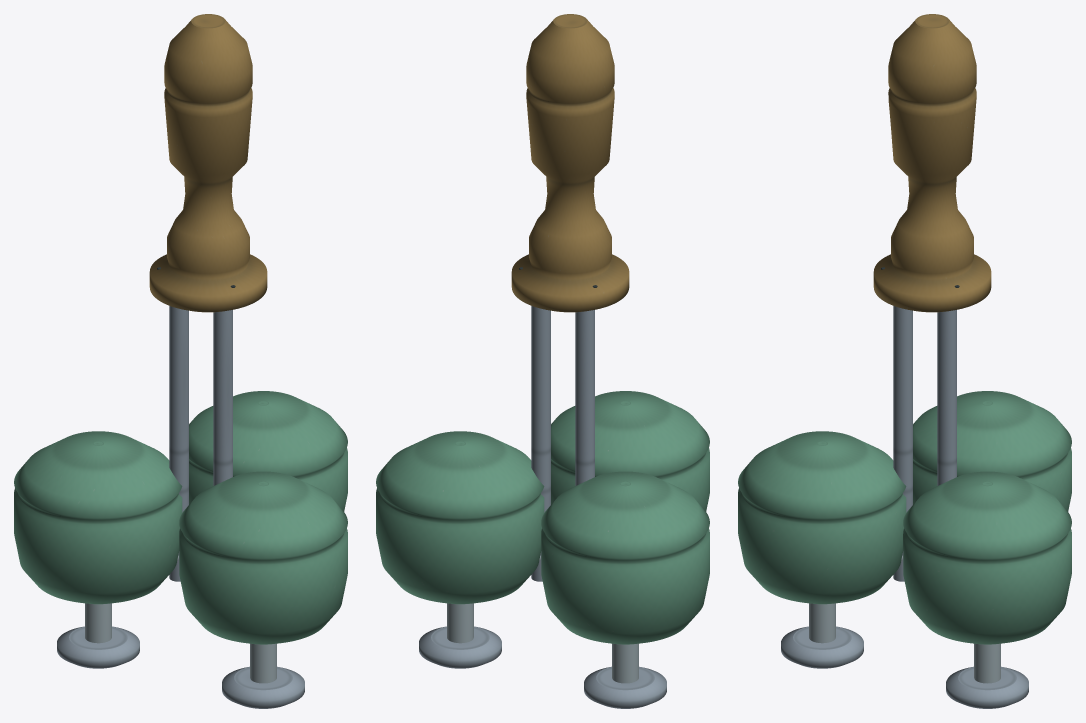
The picture shows the model from 3 angles, left to right: view 1: azimuth 30°, elevation 25°; view 2: azimuth 150°, elevation 25°; view 3: azimuth 270°, elevation 25°; orthographic projection.
Visible parts, largest first — view 1: RI16 green lower housing 0, RI16 green lower housing 2, RI16 bronze generator head, RI16 green lower housing 1, RI16 vertical alloy support 2, RI16 vertical alloy support 0, RI16 ground foot 2, RI16 ground foot 0, RI16 housing foot stem 0, RI16 housing foot stem 2; view 2: RI16 green lower housing 2, RI16 green lower housing 1, RI16 bronze generator head, RI16 green lower housing 0, RI16 vertical alloy support 1, RI16 vertical alloy support 2, RI16 ground foot 1, RI16 ground foot 2, RI16 housing foot stem 2, RI16 housing foot stem 1; view 3: RI16 green lower housing 1, RI16 green lower housing 0, RI16 bronze generator head, RI16 green lower housing 2, RI16 vertical alloy support 0, RI16 vertical alloy support 1, RI16 ground foot 1, RI16 ground foot 0, RI16 housing foot stem 1, RI16 housing foot stem 0.
Part boxes in pixels (<box>): RI16 green lower housing 0: <box>179,471,347,644</box>; RI16 green lower housing 2: <box>14,431,182,604</box>; RI16 bronze generator head: <box>149,14,267,312</box>; RI16 green lower housing 1: <box>189,391,347,511</box>; RI16 vertical alloy support 2: <box>169,306,188,581</box>; RI16 vertical alloy support 0: <box>213,310,232,485</box>; RI16 ground foot 2: <box>57,626,139,668</box>; RI16 ground foot 0: <box>222,666,304,708</box>; RI16 housing foot stem 0: <box>250,643,276,683</box>; RI16 housing foot stem 2: <box>85,603,111,643</box>; RI16 green lower housing 2: <box>541,471,709,644</box>; RI16 green lower housing 1: <box>376,431,544,604</box>; RI16 bronze generator head: <box>511,14,629,312</box>; RI16 green lower housing 0: <box>551,391,709,511</box>; RI16 vertical alloy support 1: <box>531,306,550,581</box>; RI16 vertical alloy support 2: <box>575,310,594,485</box>; RI16 ground foot 1: <box>419,626,501,668</box>; RI16 ground foot 2: <box>584,666,666,708</box>; RI16 housing foot stem 2: <box>612,643,638,683</box>; RI16 housing foot stem 1: <box>447,603,473,643</box>; RI16 green lower housing 1: <box>903,471,1071,644</box>; RI16 green lower housing 0: <box>738,431,906,604</box>; RI16 bronze generator head: <box>873,14,991,312</box>; RI16 green lower housing 2: <box>913,391,1071,511</box>; RI16 vertical alloy support 0: <box>893,306,912,581</box>; RI16 vertical alloy support 1: <box>937,310,956,485</box>; RI16 ground foot 1: <box>946,666,1028,708</box>; RI16 ground foot 0: <box>781,626,863,668</box>; RI16 housing foot stem 1: <box>974,643,1000,683</box>; RI16 housing foot stem 0: <box>809,603,835,643</box>.
Bounding box in the file's own units: 1.47 × 2.86 × 1.36.
8 materials, 6 textured.
